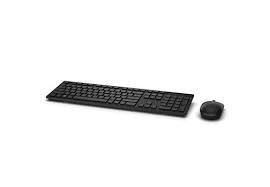keyboard: (45, 69, 193, 132)
mouse: (198, 93, 227, 130)
